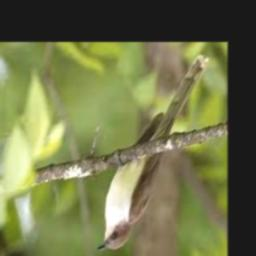Cuckoo: (96, 55, 209, 251)
